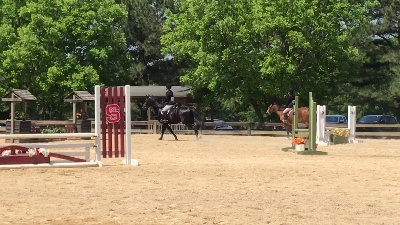jetta: (137, 92, 202, 140)
